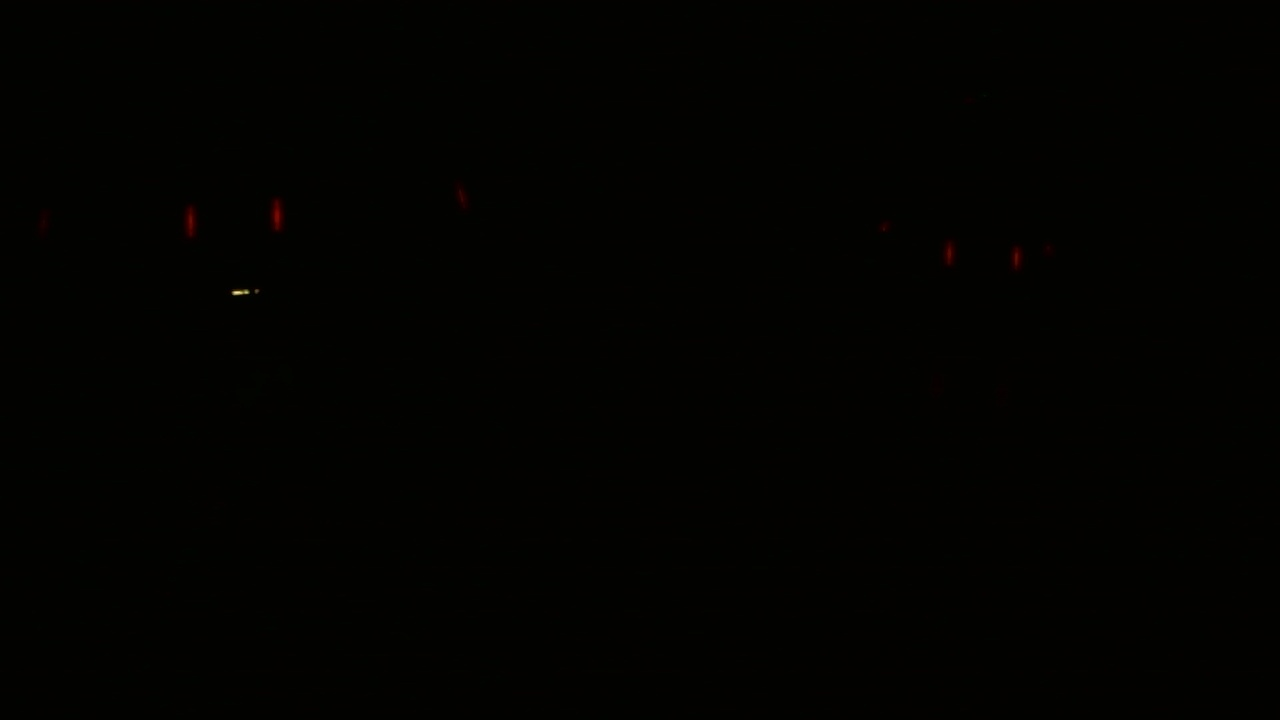pair1: (178, 197, 288, 242), (938, 240, 1026, 275)
